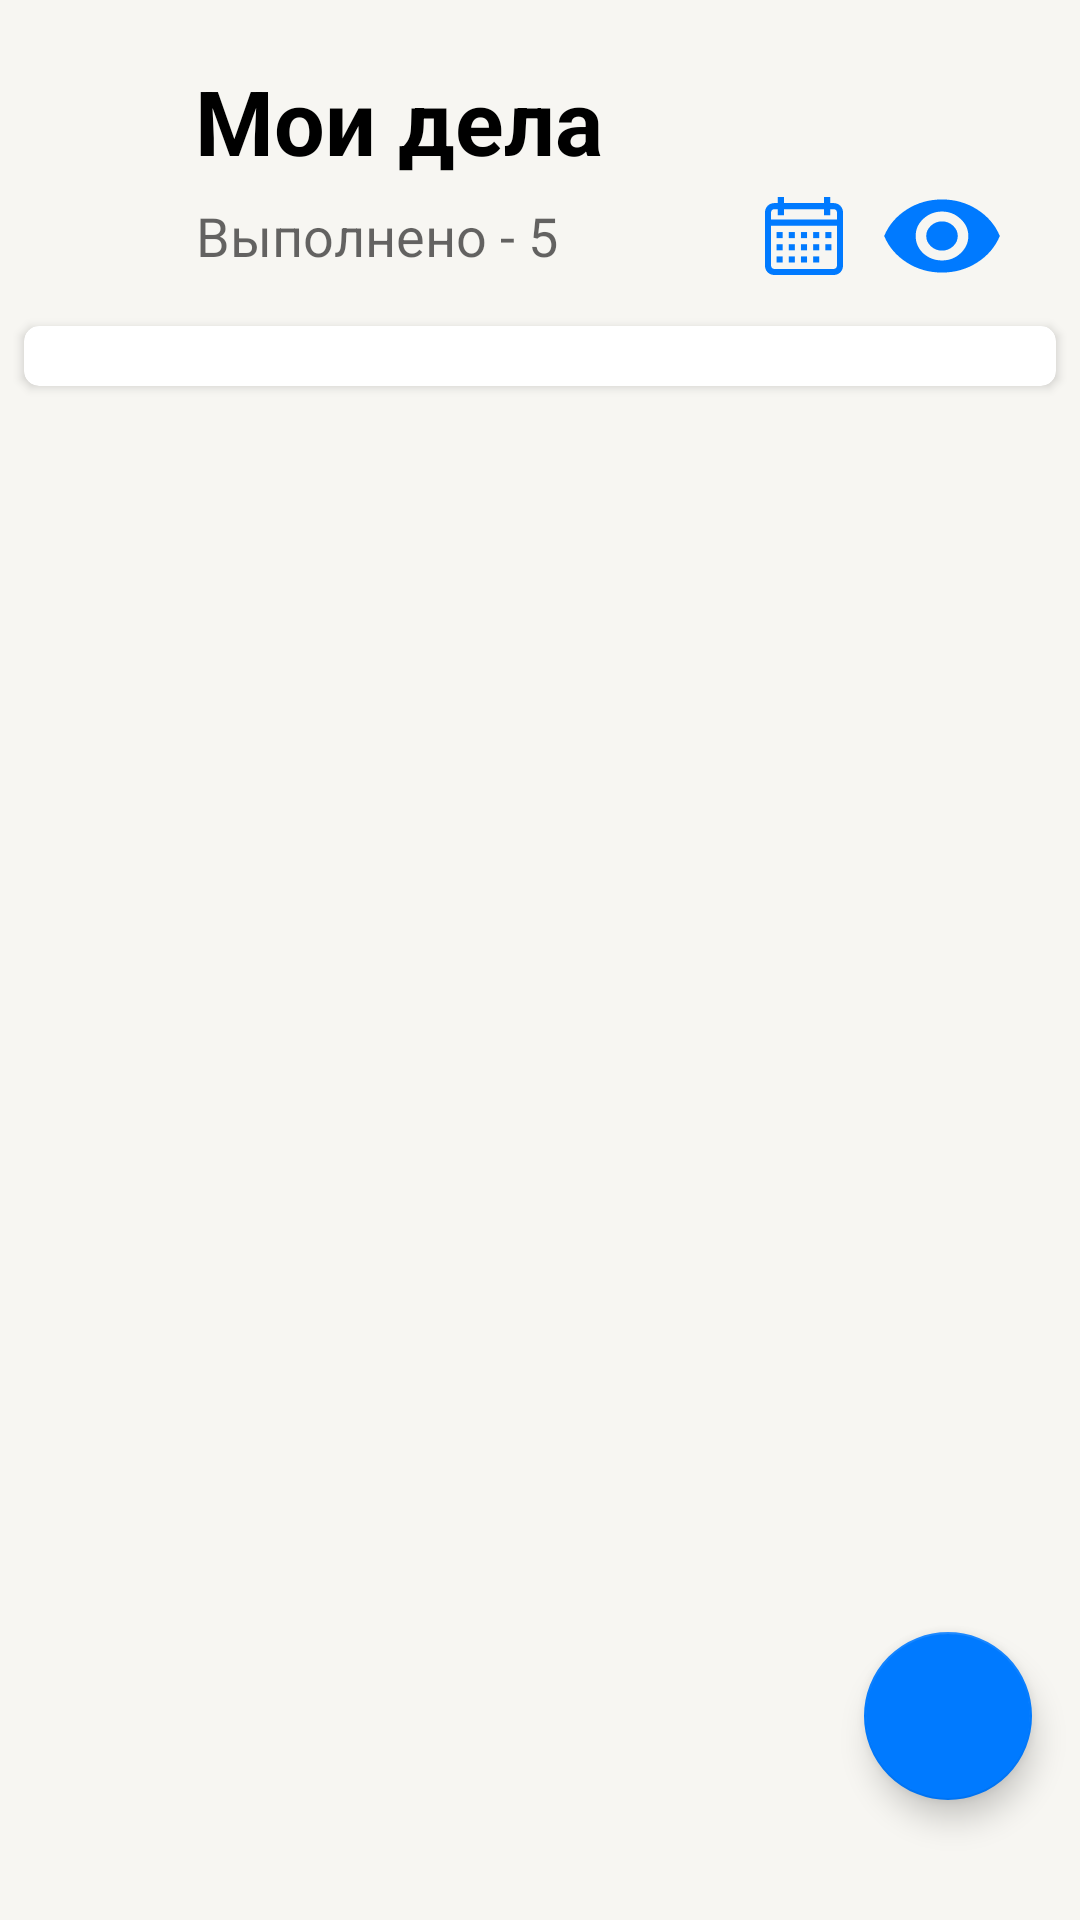

Where icons sit on this 1080*1920 app screen, as (x1, y1, x2, y2):
calendar: (765, 197, 843, 275)
visibility: (884, 199, 1000, 273)
